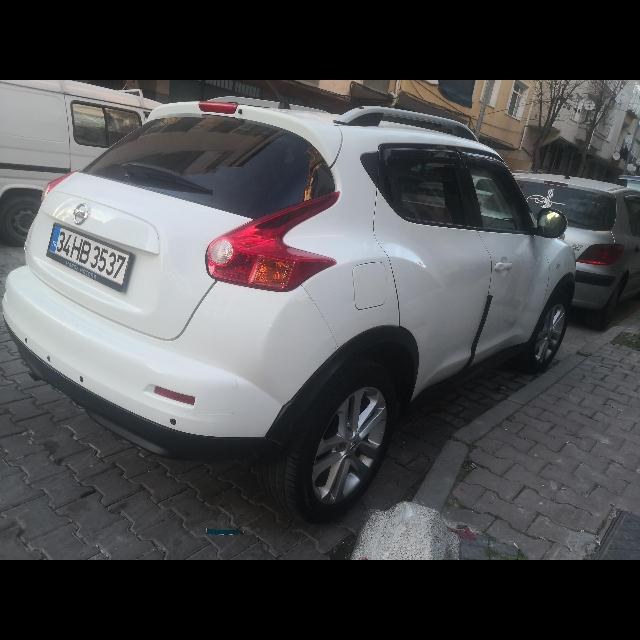Plaka: (44, 217, 128, 286)
